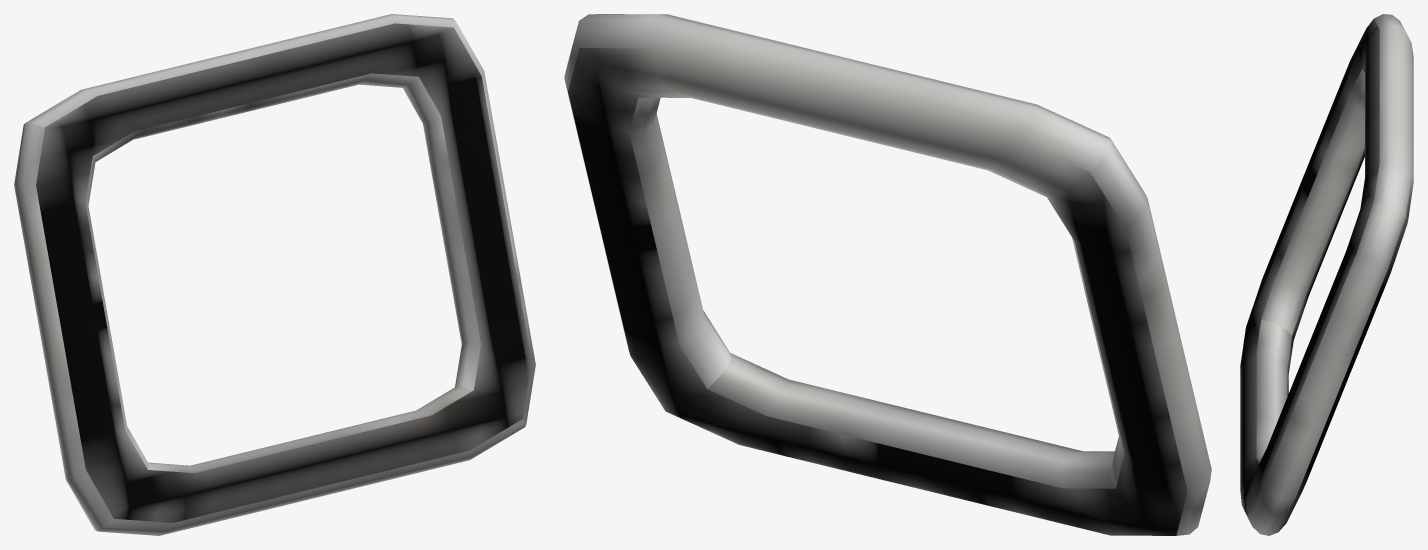
File: anillo_pata1.obj
The picture shows the model from 3 angles, left to right: view 1: azimuth 30°, elevation 25°; view 2: azimuth 150°, elevation 25°; view 3: azimuth 270°, elevation 25°; orthographic projection. The views are drawn at different scales.
Visible parts, largest first — view 1: Anillo_Pata1; view 2: Anillo_Pata1; view 3: Anillo_Pata1.
Part boxes in pixels (x1,y1,x2,y2): Anillo_Pata1: [14, 14, 535, 535]; Anillo_Pata1: [564, 14, 1211, 535]; Anillo_Pata1: [1240, 14, 1413, 535].
Size of the model in its own units: 0.0621 by 0.0501 by 0.0217.
Materials: 1 (1 with a texture image).
